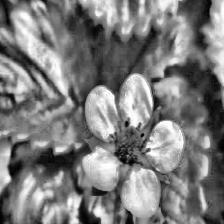Blossom Blight: (108, 116, 153, 170)
